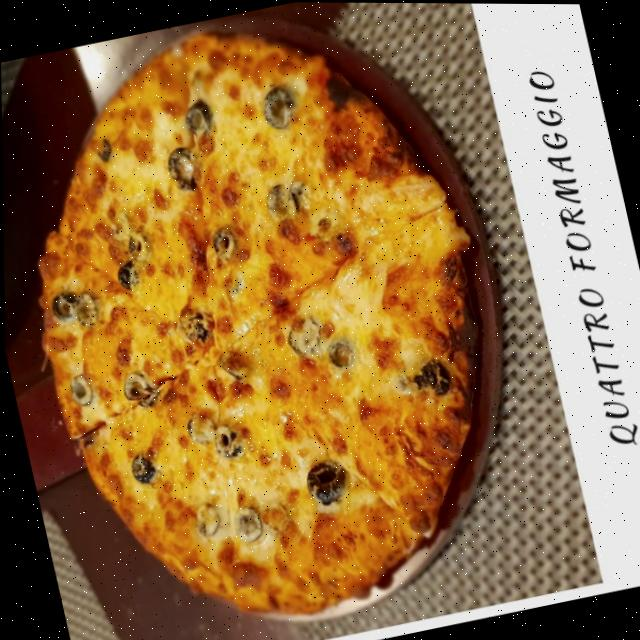black_olives: (298, 455, 348, 505), (161, 141, 204, 196), (261, 175, 308, 222), (258, 81, 298, 131), (117, 366, 159, 412), (283, 313, 324, 357), (416, 354, 452, 398), (227, 503, 264, 545), (67, 286, 102, 328), (208, 420, 242, 461), (180, 97, 214, 136), (174, 310, 209, 345), (324, 334, 357, 371), (190, 499, 221, 537), (65, 368, 94, 408), (183, 411, 217, 445), (47, 289, 80, 324), (125, 229, 153, 263), (209, 224, 236, 259), (126, 452, 154, 484), (115, 259, 141, 292), (95, 139, 114, 160)
pizza: (0, 0, 544, 640)
